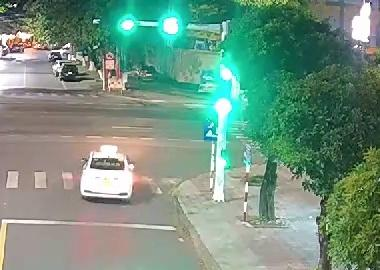green_light: (215, 60, 241, 115), (154, 12, 184, 40), (112, 12, 136, 35)
stop_line: (2, 215, 189, 233)
